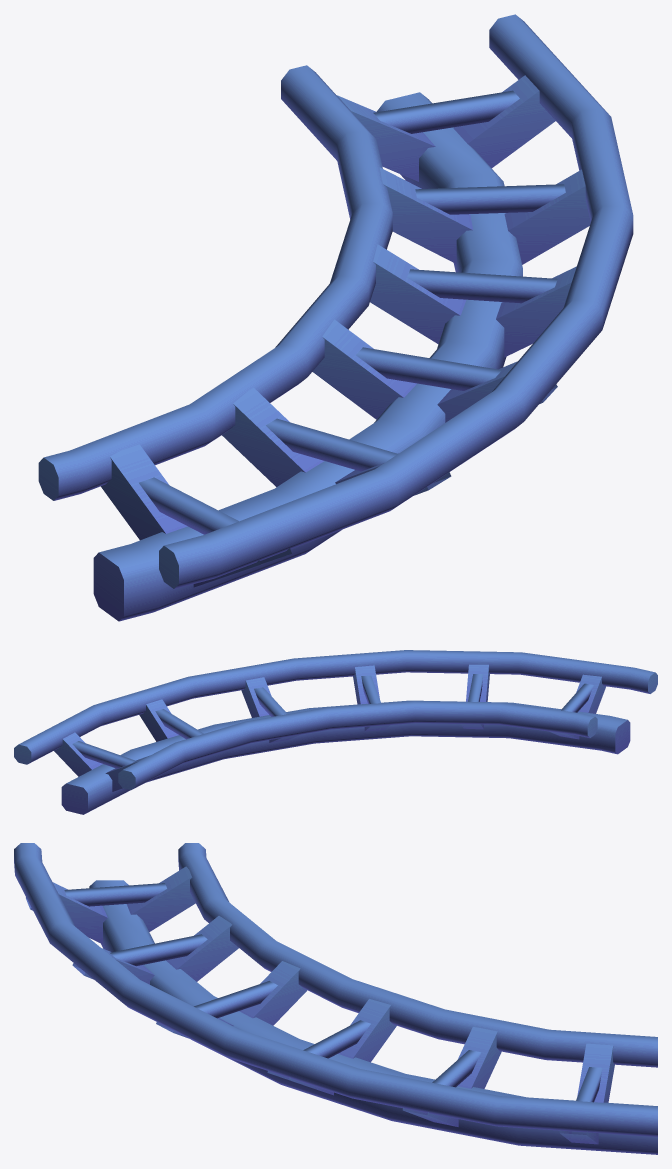
Rendered from steel-corner-small.glb.
The picture shows the model from 3 angles, top to bottom: view 1: azimuth 30°, elevation 25°; view 2: azimuth 150°, elevation 25°; view 3: azimuth 270°, elevation 25°; orthographic projection. The views are drawn at different scales.
Visible parts, largest first — view 1: coaster-steel-corner-small; view 2: coaster-steel-corner-small; view 3: coaster-steel-corner-small.
Boxes of the visible parts, x1=… form: coaster-steel-corner-small: x1=38, y1=14, x2=633, y2=621; coaster-steel-corner-small: x1=14, y1=650, x2=657, y2=814; coaster-steel-corner-small: x1=14, y1=843, x2=657, y2=1154.
Bounding box in the file's own units: 2.35 × 0.3001 × 2.35.
1 material, 1 textured.
